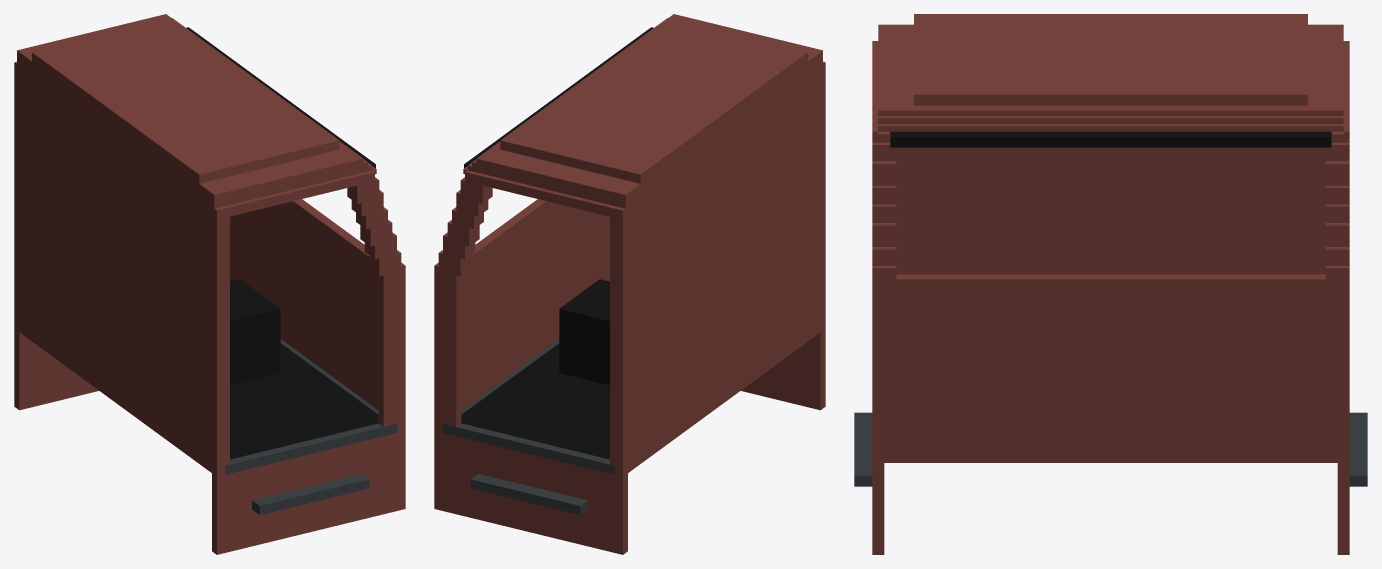
Rendered from semi_tractor_cab.glb.
The picture shows the model from 3 angles, left to right: view 1: azimuth 30°, elevation 25°; view 2: azimuth 150°, elevation 25°; view 3: azimuth 270°, elevation 25°; orthographic projection. The views are drawn at different scales.
Visible parts, largest first — view 1: body:compound; view 2: body:compound; view 3: body:compound.
Boxes of the visible parts, bbox=[...] form: body:compound: bbox=[14, 14, 405, 554]; body:compound: bbox=[434, 14, 825, 554]; body:compound: bbox=[854, 14, 1367, 554].
Size of the model in its own units: 1.34 by 2.5 by 2.69.
